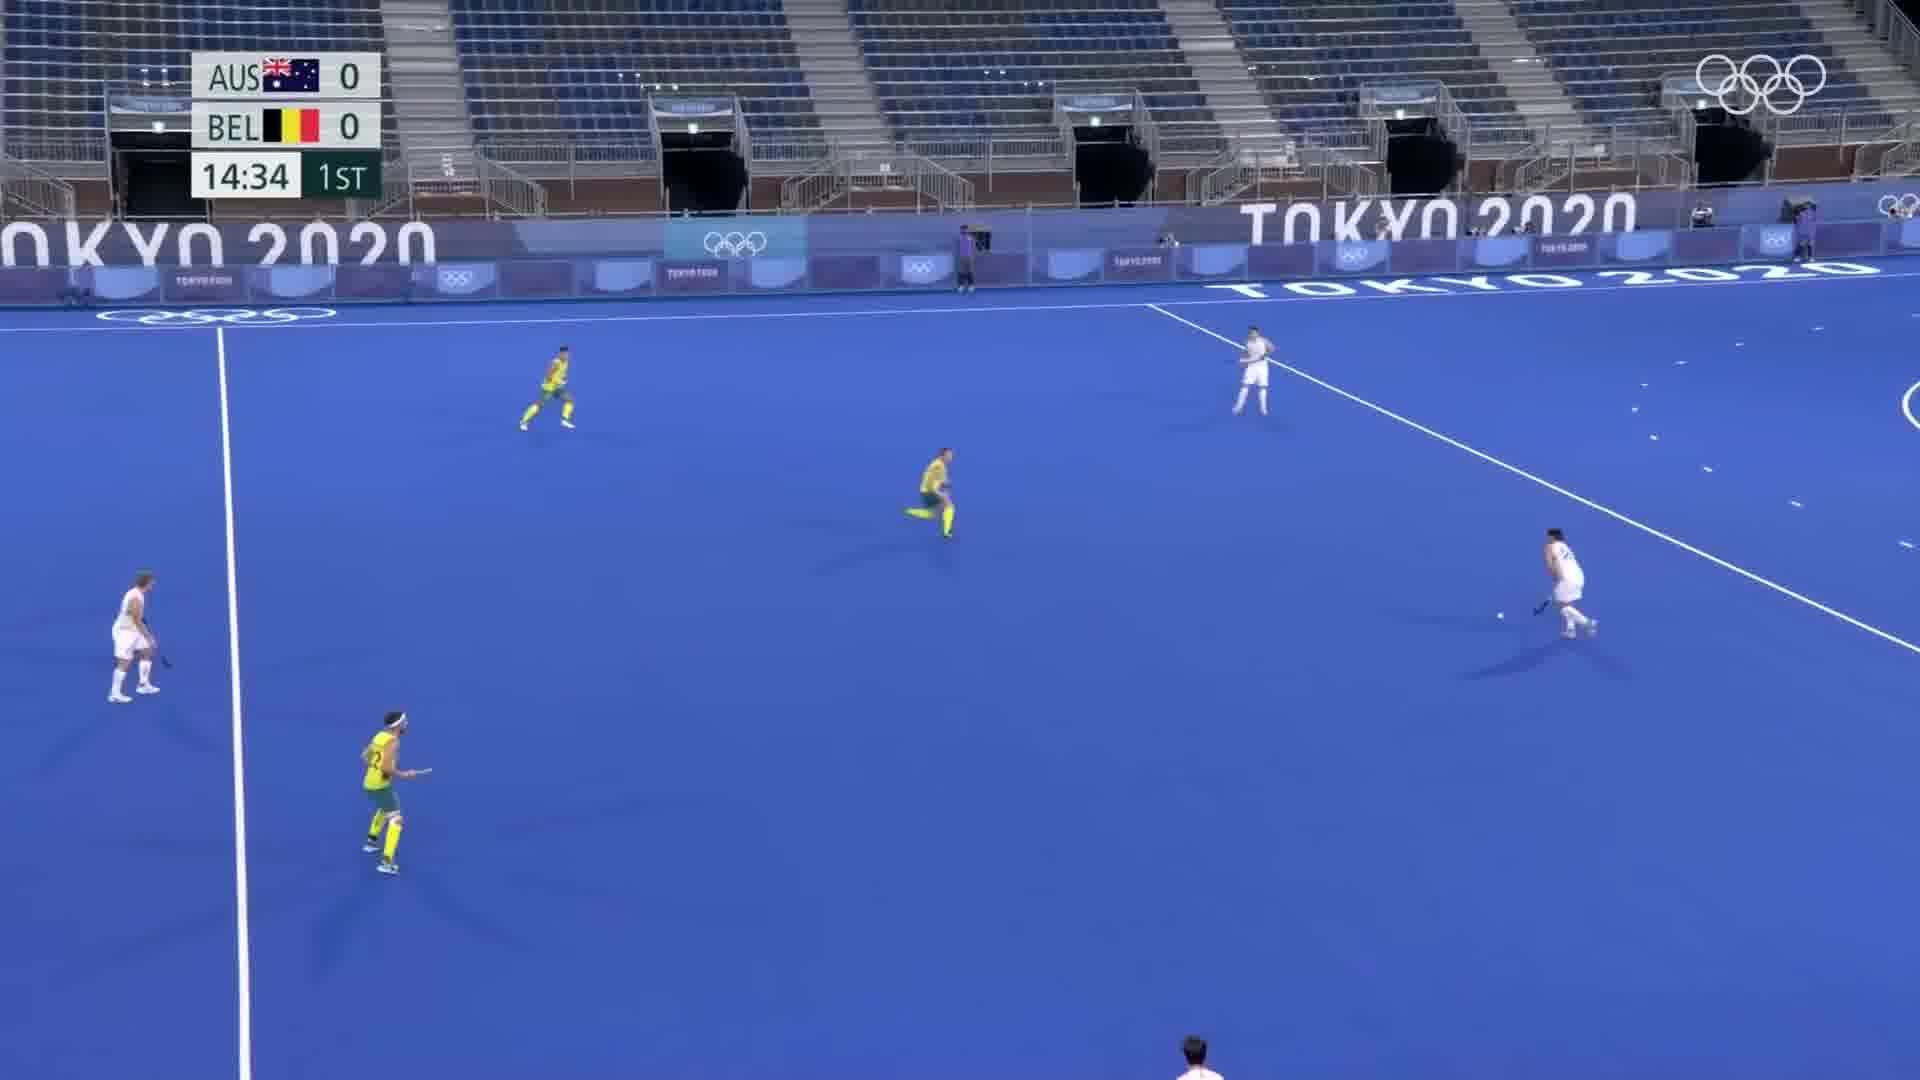ball: (1482, 601, 1520, 629)
